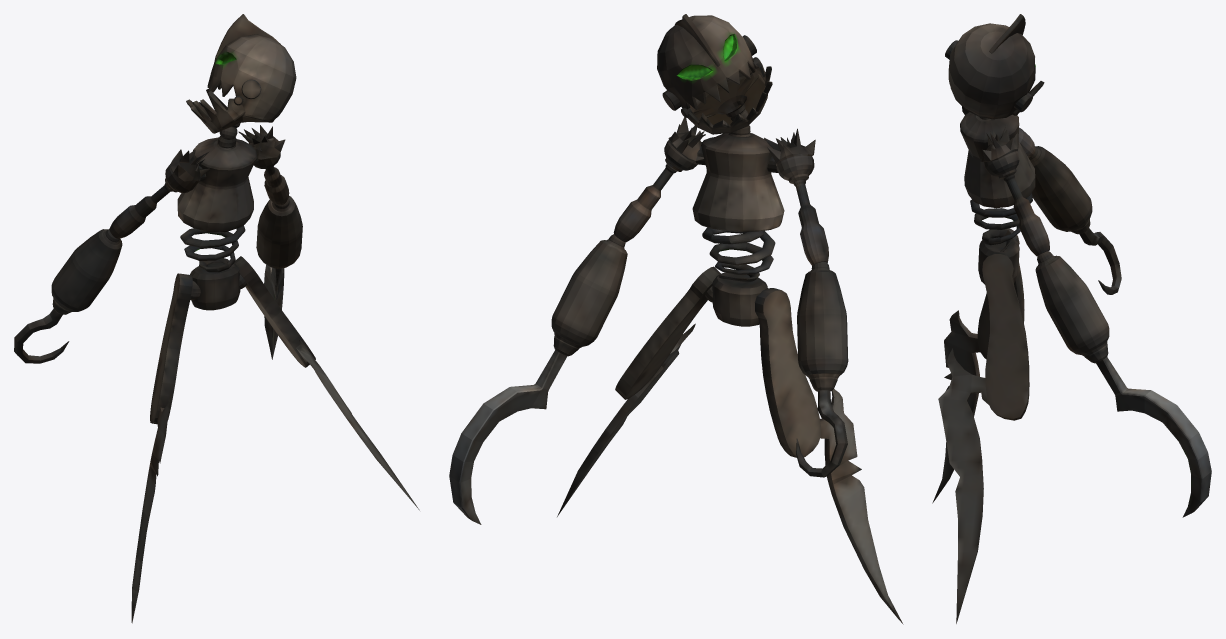
3 renders of one model, left to right at view 1: azimuth 30°, elevation 25°; view 2: azimuth 150°, elevation 25°; view 3: azimuth 270°, elevation 25°, orthographic. The views are drawn at different scales.
Visible parts, largest first — view 1: Assembled_Plane.008; view 2: Assembled_Plane.008; view 3: Assembled_Plane.008.
Boxes of the visible parts, left/top/right/bottom form: Assembled_Plane.008: left=14, top=14, right=419, bottom=623; Assembled_Plane.008: left=449, top=14, right=903, bottom=624; Assembled_Plane.008: left=932, top=14, right=1211, bottom=623.
Bounding box in the file's own units: 3.1 × 4.83 × 2.15.
